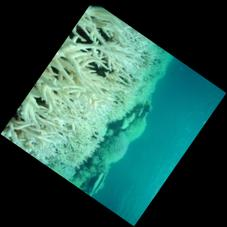bleached_corals: (1, 2, 189, 201)
